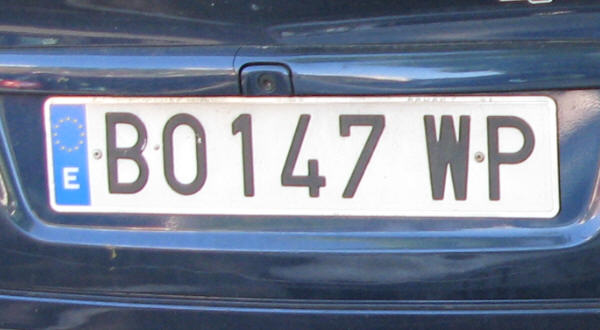license_plate: (46, 100, 557, 217)
